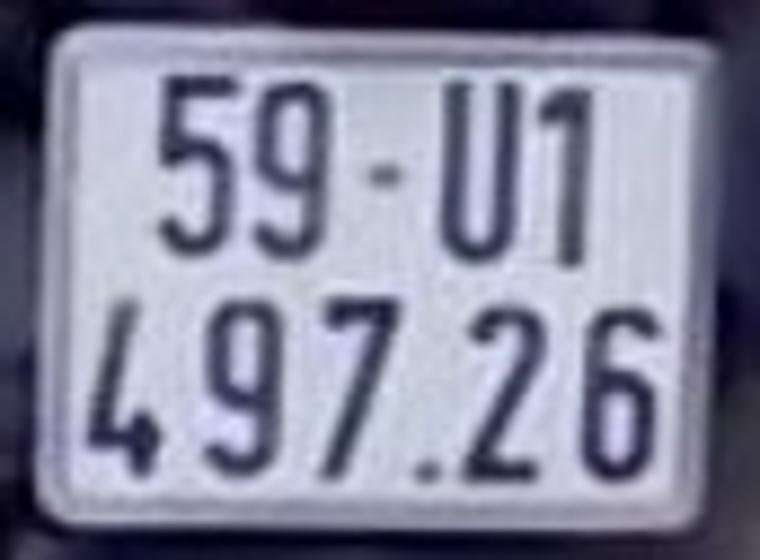-: (365, 155, 404, 190)
.: (412, 457, 448, 487)
1: (535, 82, 593, 271)
2: (464, 299, 547, 486)
4: (81, 298, 166, 479)
5: (154, 78, 240, 259)
6: (575, 303, 662, 486)
7: (309, 289, 401, 481)
9: (198, 293, 283, 477), (253, 79, 333, 261)
U: (438, 78, 522, 269)
